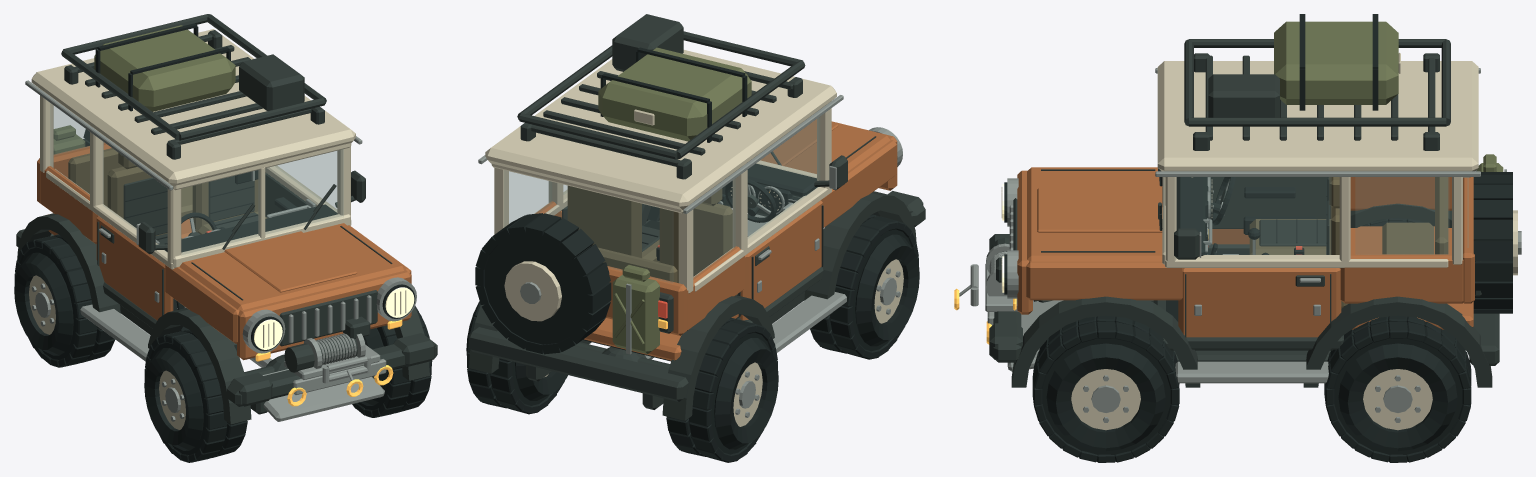
The model's file is ridge-rover.glb.
3 views of the same model, side by side, from view 1: azimuth 30°, elevation 25°; view 2: azimuth 150°, elevation 25°; view 3: azimuth 270°, elevation 25° (orthographic). The views are drawn at different scales.
Visible parts, largest first — view 1: Body_Charcoal_interior, Body_Warm_ivory, Body_Ochre_enamel, Body_Pale_glazing, Body_Brushed_steel, Body_Luggage_olive, Wheel_FL_Rubber, Wheel_RL_Rubber, Body_Rubber, Body_Saddle_canvas, Wheel_FR_Rubber, Body_Headlight_glass (+5 smaller); view 2: Body_Charcoal_interior, Body_Warm_ivory, Body_Pale_glazing, Body_Rubber, Body_Ochre_enamel, Body_Luggage_olive, Wheel_RL_Rubber, Wheel_FL_Rubber, Body_Saddle_canvas, Body_Brushed_steel, Wheel_RR_Rubber, Wheel_RL_Warm_ivory (+4 smaller); view 3: Body_Ochre_enamel, Body_Charcoal_interior, Body_Warm_ivory, Body_Pale_glazing, Wheel_FR_Rubber, Wheel_RR_Rubber, Body_Rubber, Body_Brushed_steel, Body_Luggage_olive, Body_Saddle_canvas, Wheel_FR_Warm_ivory, Wheel_RR_Warm_ivory (+2 smaller).
Boxes of the visible parts, x1,y1,x2,y2 form: Body_Charcoal_interior: [16, 14, 437, 424]; Body_Warm_ivory: [31, 29, 406, 347]; Body_Ochre_enamel: [37, 142, 411, 360]; Body_Pale_glazing: [50, 103, 343, 254]; Body_Brushed_steel: [25, 80, 416, 421]; Body_Luggage_olive: [53, 25, 235, 154]; Wheel_FL_Rubber: [144, 329, 247, 462]; Wheel_RL_Rubber: [14, 234, 115, 367]; Body_Rubber: [83, 23, 415, 351]; Body_Saddle_canvas: [68, 148, 266, 239]; Wheel_FR_Rubber: [352, 305, 432, 417]; Body_Headlight_glass: [254, 287, 414, 349]; Body_Charcoal_interior: [468, 14, 925, 420]; Body_Warm_ivory: [485, 50, 836, 321]; Body_Pale_glazing: [504, 117, 819, 282]; Body_Rubber: [475, 47, 817, 361]; Body_Ochre_enamel: [535, 119, 897, 360]; Body_Luggage_olive: [598, 47, 751, 354]; Wheel_RL_Rubber: [666, 317, 778, 462]; Wheel_FL_Rubber: [810, 214, 919, 359]; Body_Saddle_canvas: [567, 185, 737, 295]; Body_Brushed_steel: [478, 95, 902, 359]; Wheel_RR_Rubber: [466, 301, 567, 414]; Wheel_RL_Warm_ivory: [733, 362, 762, 426]; Body_Ochre_enamel: [1017, 167, 1474, 337]; Body_Charcoal_interior: [989, 39, 1499, 387]; Body_Warm_ivory: [1001, 52, 1517, 289]; Body_Pale_glazing: [1180, 177, 1468, 254]; Wheel_FR_Rubber: [1032, 315, 1179, 462]; Wheel_RR_Rubber: [1324, 315, 1471, 462]; Body_Rubber: [1004, 14, 1512, 321]; Body_Brushed_steel: [959, 68, 1521, 383]; Body_Luggage_olive: [1208, 21, 1503, 238]; Body_Saddle_canvas: [1249, 177, 1448, 308]; Wheel_FR_Warm_ivory: [1071, 369, 1140, 430]; Wheel_RR_Warm_ivory: [1363, 369, 1432, 430].
Size of the model in its own units: 2.81 by 3.44 by 5.05.
